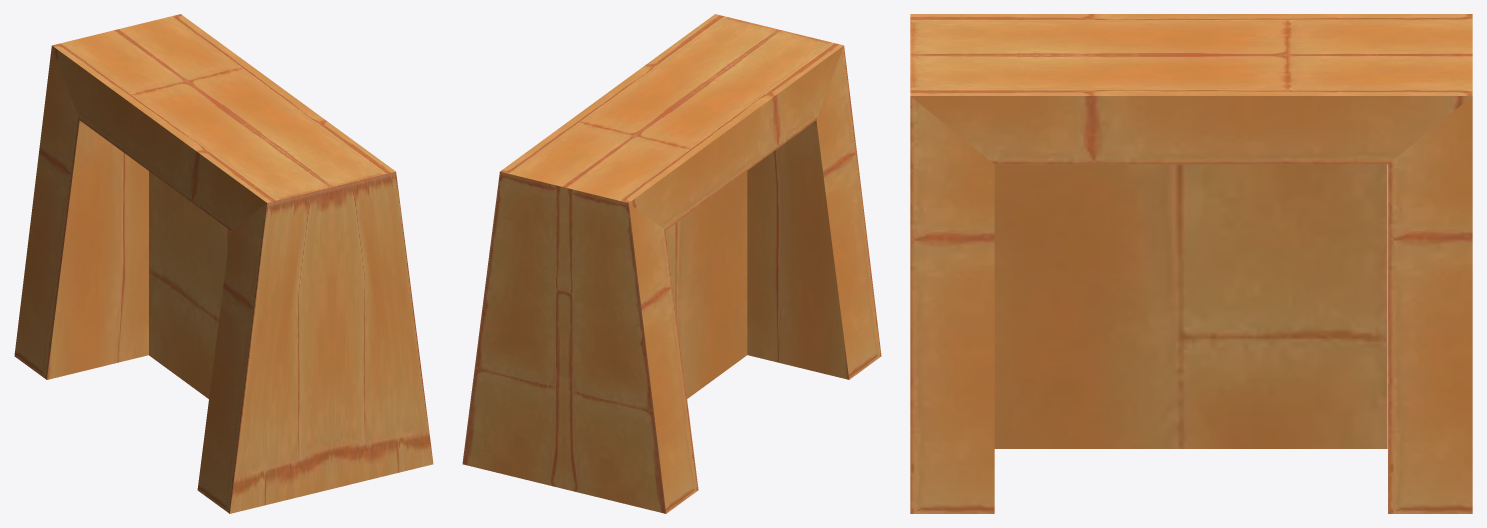
The model's file is temple-embelisher03.glb.
The picture shows the model from 3 angles, left to right: view 1: azimuth 30°, elevation 25°; view 2: azimuth 150°, elevation 25°; view 3: azimuth 270°, elevation 25°; orthographic projection. The views are drawn at different scales.
Parts seen in each view (by area): view 1: TempleEmbelisher03_Art; view 2: TempleEmbelisher03_Art; view 3: TempleEmbelisher03_Art.
Boxes of the visible parts, <box> form: TempleEmbelisher03_Art: <box>14,14,433,513</box>; TempleEmbelisher03_Art: <box>462,14,881,513</box>; TempleEmbelisher03_Art: <box>910,14,1472,513</box>.
Bounding box in the file's own units: 3.65 × 5.16 × 6.68.
1 material, 1 textured.
